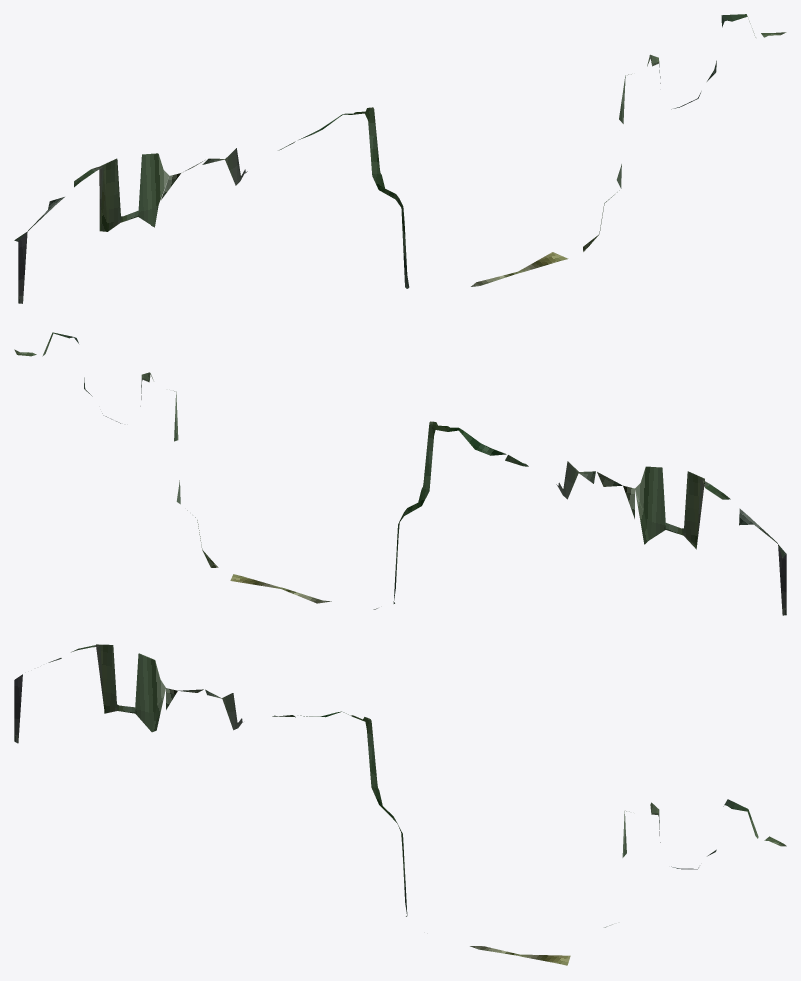
The model's file is Tile_000_000_L14_1222.glb.
The picture shows the model from 3 angles, top to bottom: view 1: azimuth 30°, elevation 25°; view 2: azimuth 150°, elevation 25°; view 3: azimuth 330°, elevation 25°; orthographic projection.
Visible parts, largest first — view 1: rtc; view 2: rtc; view 3: rtc.
Part boxes in pixels (left/top/right/bottom): rtc: left=14, top=14, right=786, bottom=303; rtc: left=14, top=332, right=786, bottom=615; rtc: left=14, top=644, right=786, bottom=965.
Bounding box in the file's own units: 53.92 × 14.51 × 1.46.
Materials: 1 (1 with a texture image).
